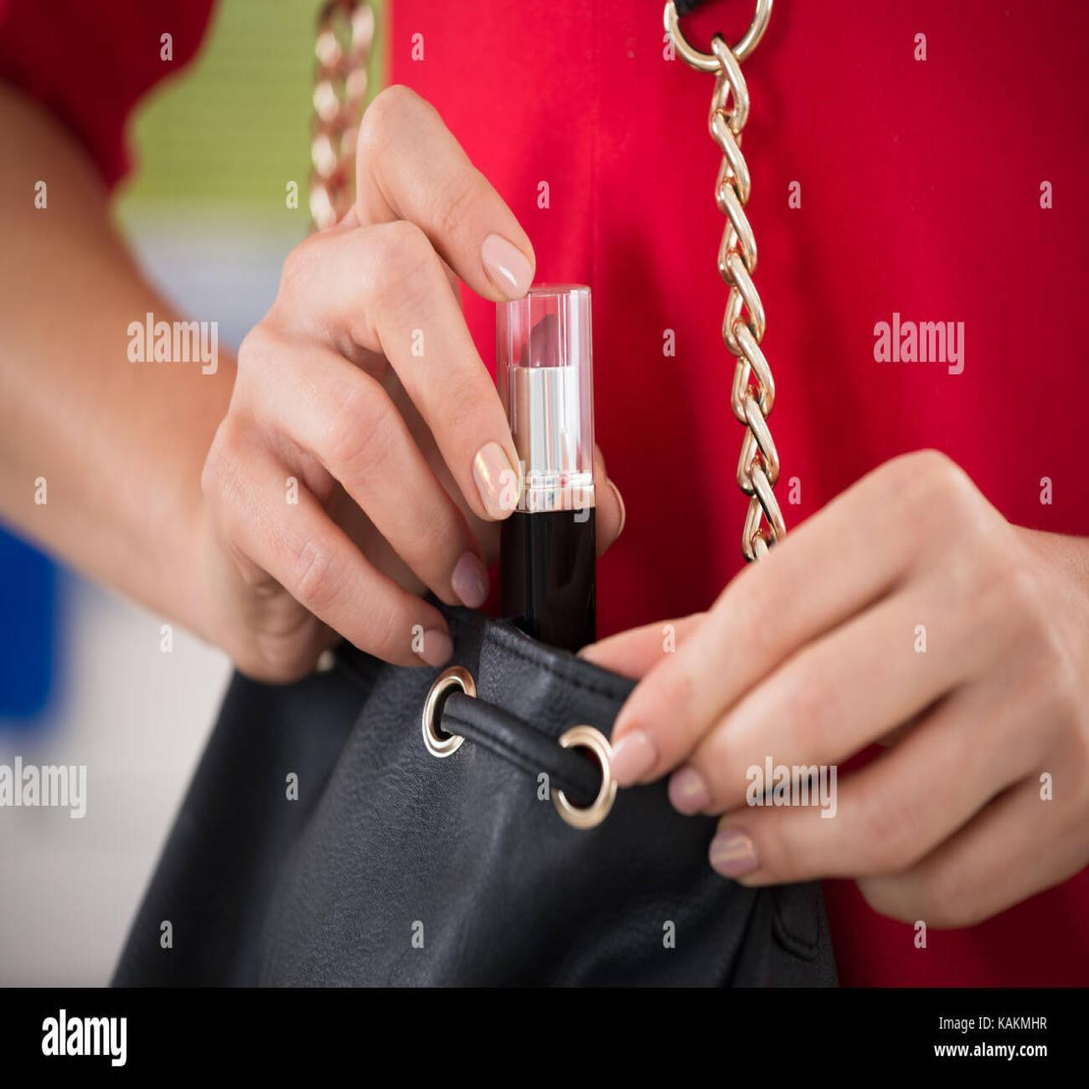shoplifting: (128, 40, 1011, 1028)
